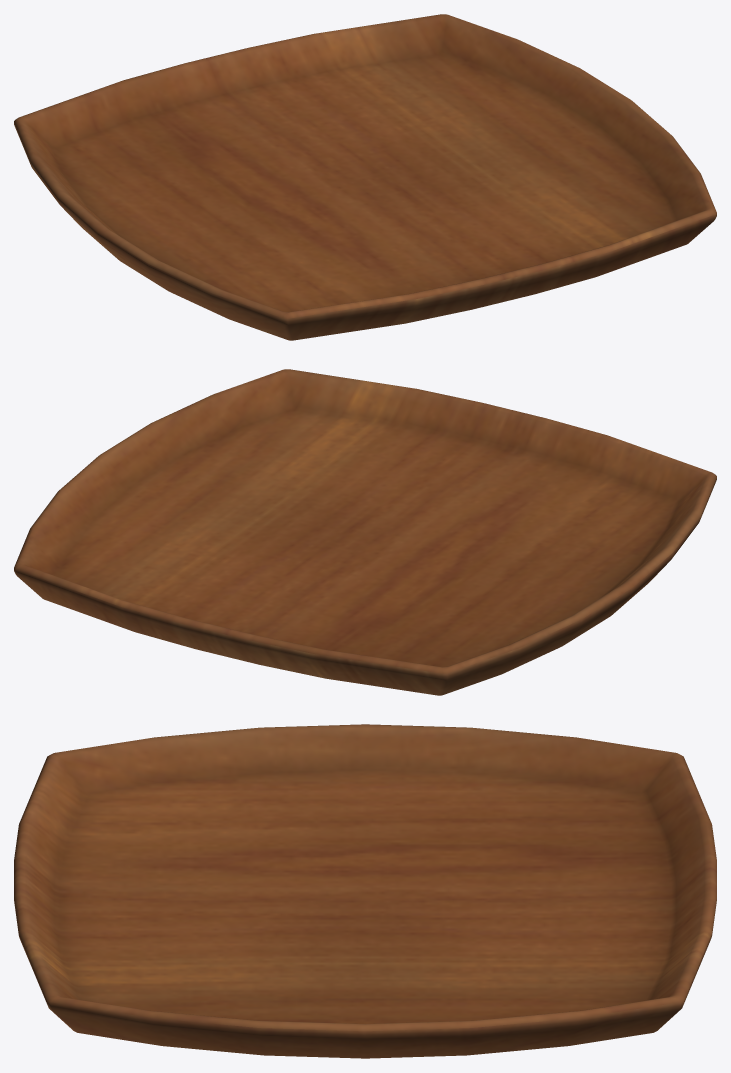
The model's file is GardenTableWear01_17.FBX.
3 renders of one model, top to bottom at view 1: azimuth 30°, elevation 25°; view 2: azimuth 150°, elevation 25°; view 3: azimuth 270°, elevation 25°, orthographic. The views are drawn at different scales.
Parts seen in each view (by area): view 1: GardenTableWear01_17; view 2: GardenTableWear01_17; view 3: GardenTableWear01_17.
Boxes of the visible parts, x1,y1,x2,y2 form: GardenTableWear01_17: (14,14,716,340); GardenTableWear01_17: (14,369,716,695); GardenTableWear01_17: (14,724,716,1058).
Size of what is drawn, in the model's own units: 0.3179 by 0.0223 by 0.3091.
